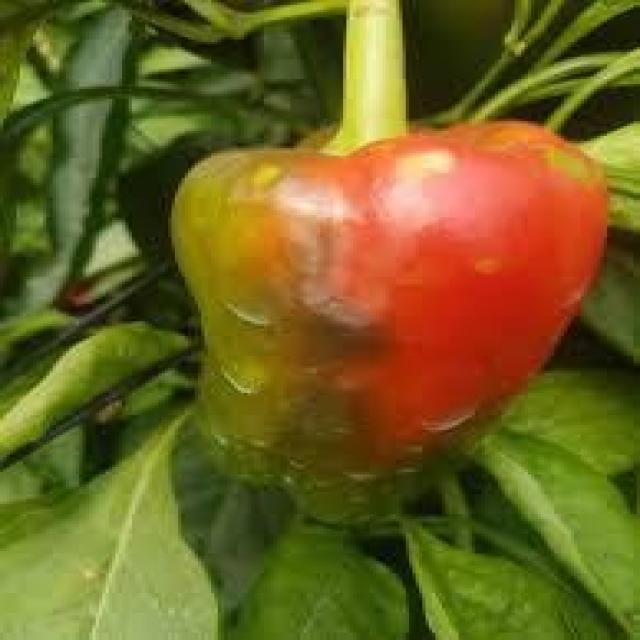bell_pepper: (132, 90, 600, 543)
